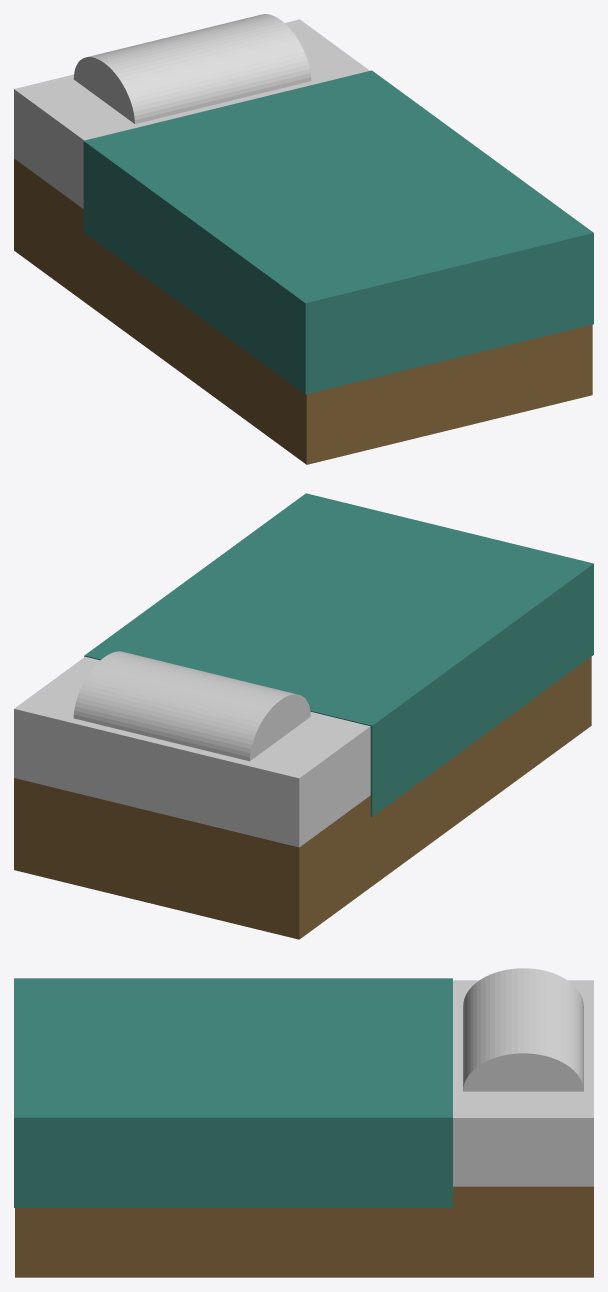
Rendered from Magnificent Albar-Bigery (3).glb.
3 renders of one model, top to bottom at view 1: azimuth 30°, elevation 25°; view 2: azimuth 150°, elevation 25°; view 3: azimuth 270°, elevation 25°, orthographic.
Parts seen in each view (by area): view 1: Mesh_Mesh_head_geo.001_lambert2SG.001; view 2: Mesh_Mesh_head_geo.001_lambert2SG.001; view 3: Mesh_Mesh_head_geo.001_lambert2SG.001.
Boxes of the visible parts, x1,y1,x2,y2 form: Mesh_Mesh_head_geo.001_lambert2SG.001: [14, 14, 593, 464]; Mesh_Mesh_head_geo.001_lambert2SG.001: [14, 493, 593, 939]; Mesh_Mesh_head_geo.001_lambert2SG.001: [14, 968, 593, 1277].
Size of the model in its own units: 0.0327 by 0.0217 by 0.0576.
